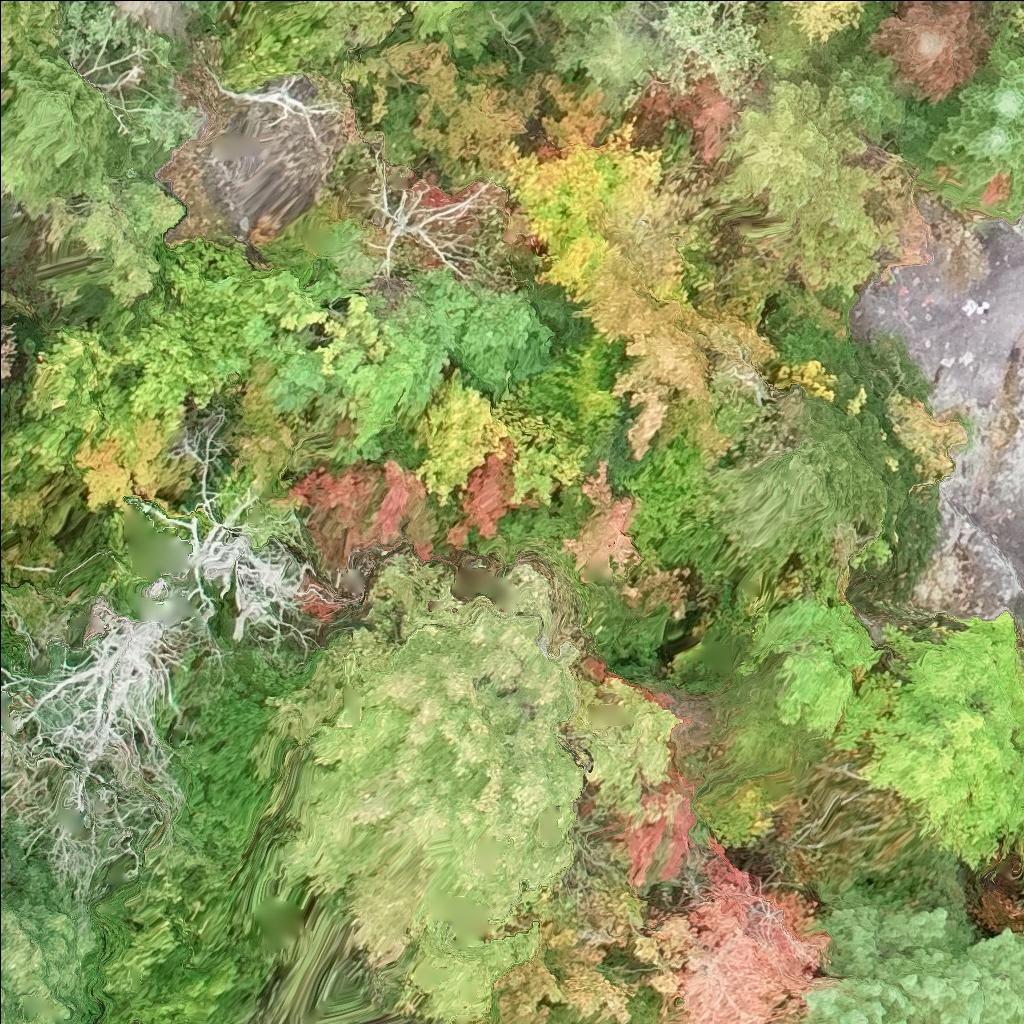crown: (730, 77, 865, 211), (864, 0, 997, 106), (925, 101, 1023, 212), (832, 54, 907, 144), (954, 40, 1023, 127), (535, 0, 624, 24)
